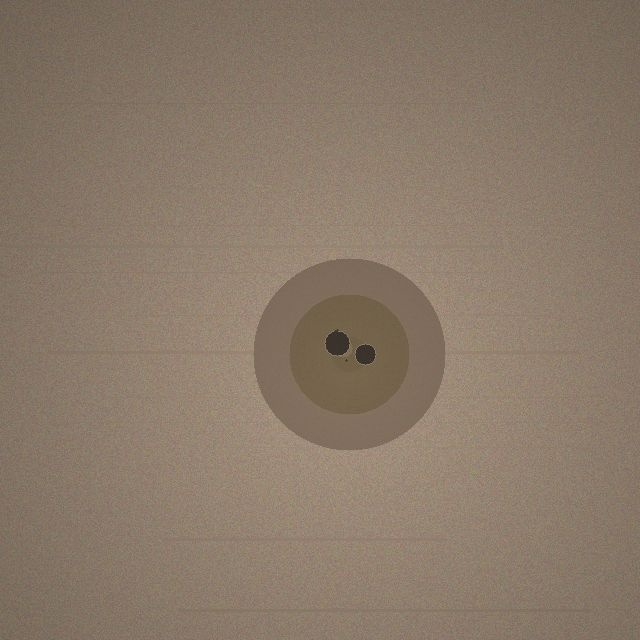shrinkage: (253, 258, 445, 450)
